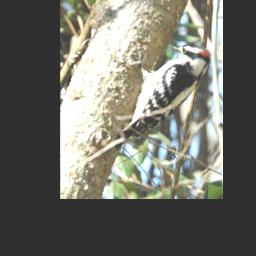Woodpecker: (121, 43, 210, 139)
